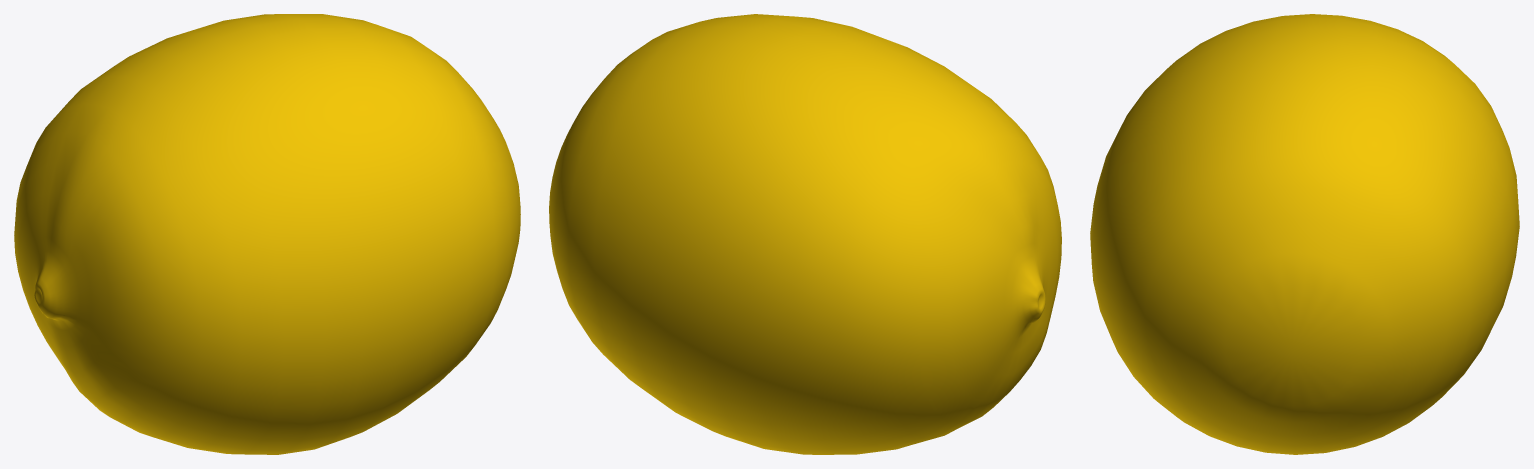
File: lemon.fbx
3 views of the same model, side by side, from view 1: azimuth 30°, elevation 25°; view 2: azimuth 150°, elevation 25°; view 3: azimuth 270°, elevation 25° (orthographic). The views are drawn at different scales.
Visible parts, largest first — view 1: polySurface9; view 2: polySurface9; view 3: polySurface9.
Part boxes in pixels (<box>): polySurface9: <box>14,14,520,454</box>; polySurface9: <box>549,14,1061,454</box>; polySurface9: <box>1090,14,1519,454</box>.
Bounding box in the file's own units: 8.76 × 7.17 × 7.15.
